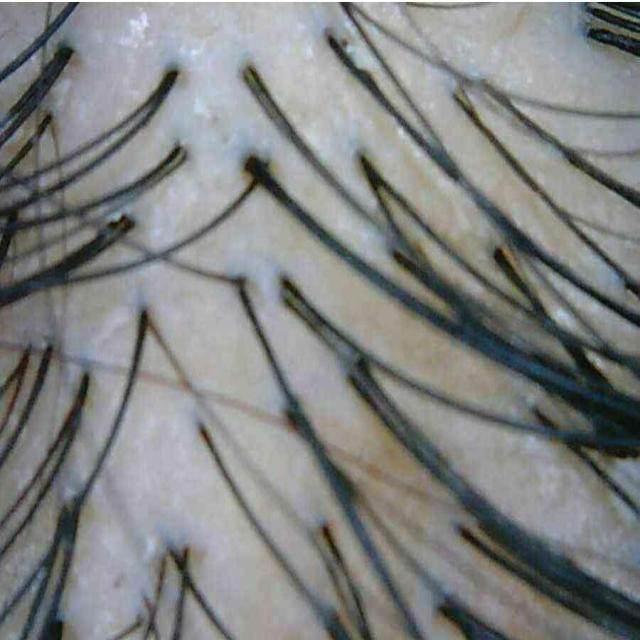ds: (520, 434, 603, 541), (84, 3, 150, 52)
